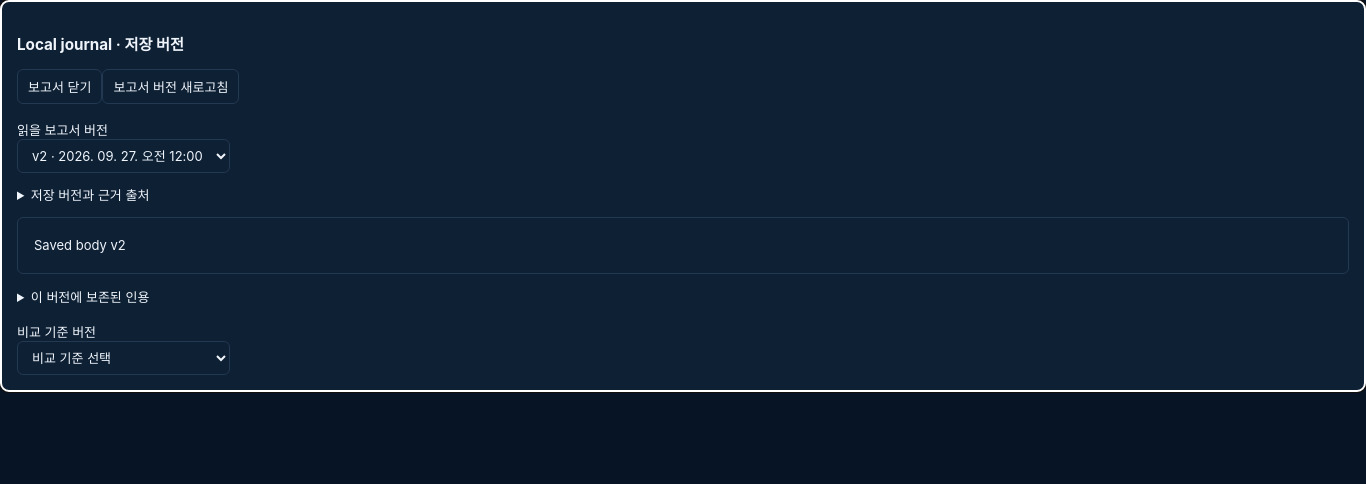
Scenario: reads exact saved versions and describes an unavailable comparison without zero-change claims
Check: the text "Saved body v2" is shown, box [17,217,1349,274]
Select "v1" in the dropdown labelled "읽을 보고서 버전". click: (124, 156)
box: [17,139,230,173]
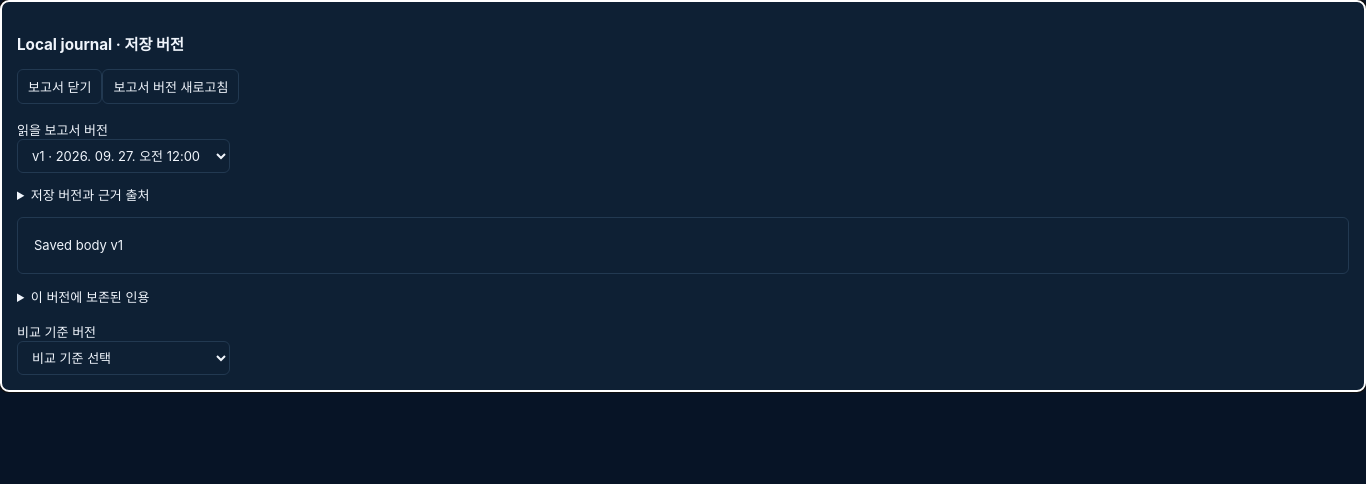
Check: the text "Saved body v1" is shown, box [17,217,1349,274]
Select "v2" in the dropdown labelled "비교 기준 버전". click: (124, 358)
box: [17,340,230,374]
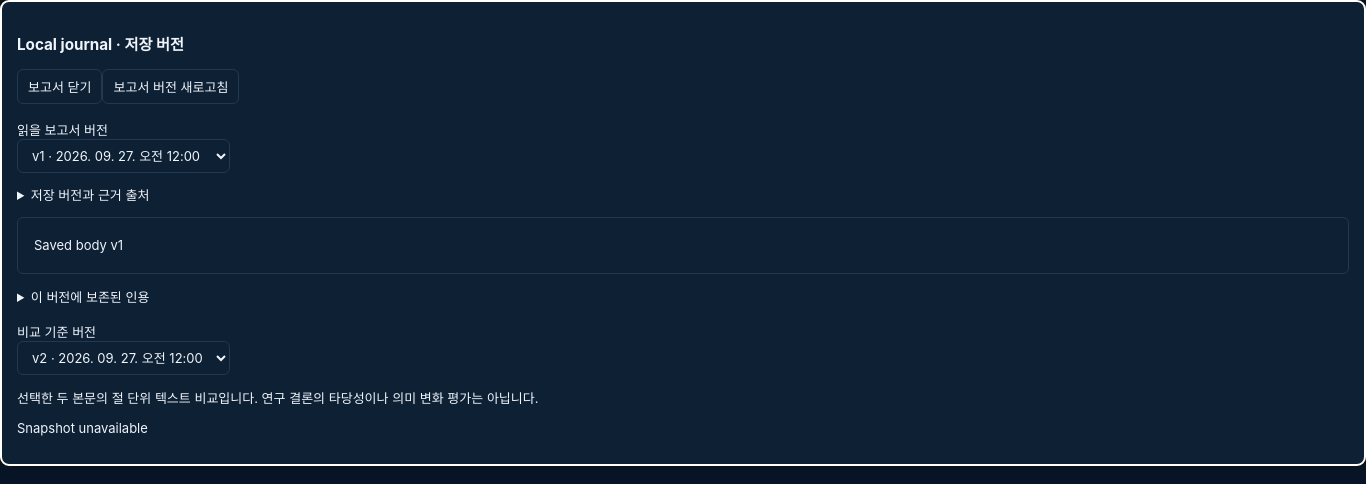
Check: the text "Snapshot unavailable" is shown, box [17,420,148,436]
